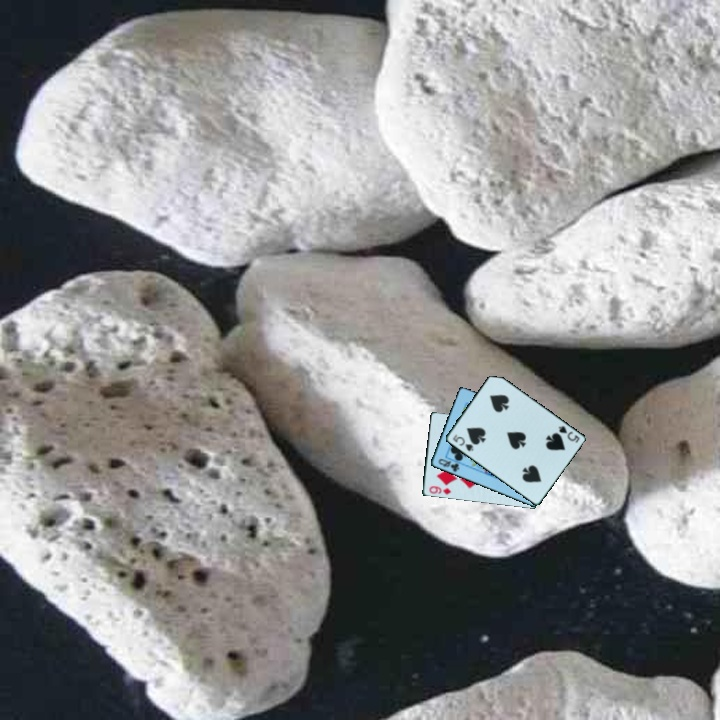5s: (554, 422, 582, 446), (449, 431, 476, 454)
9d: (426, 483, 454, 498)
Qc: (435, 455, 462, 475)
